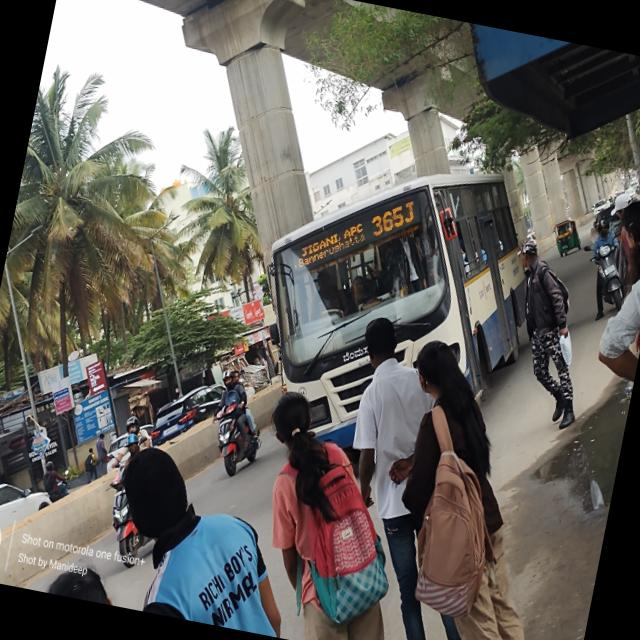bus: (210, 111, 566, 492)
display: (288, 169, 424, 288)
dnumber: (368, 190, 419, 244)
